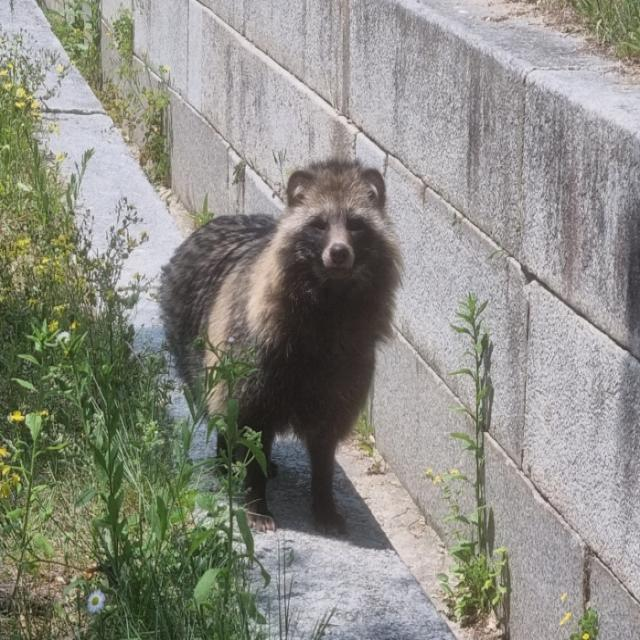racoon: (145, 150, 409, 546)
